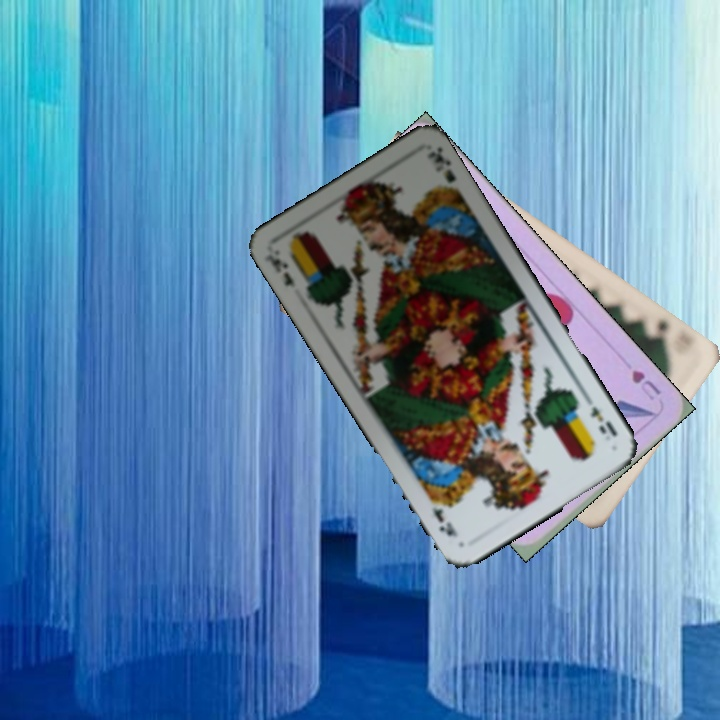EK: (261, 250, 298, 290), (585, 402, 620, 440)
G10: (640, 316, 671, 348)
HU: (627, 366, 664, 404)
